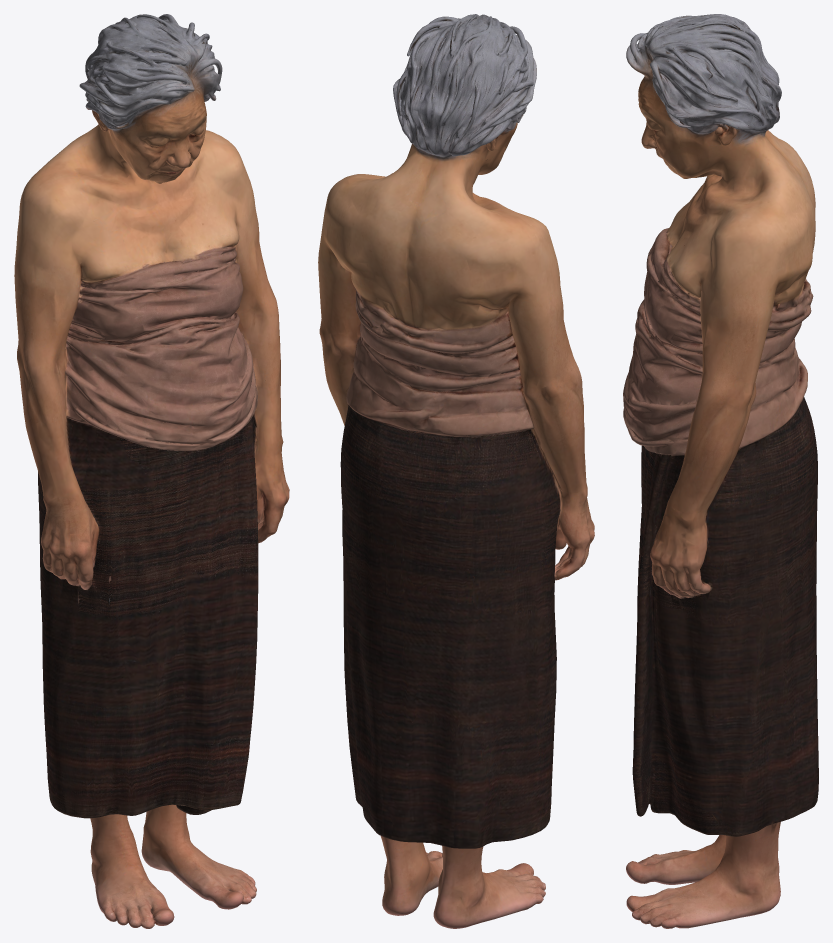
Rendered from e4ghost.glb.
The picture shows the model from 3 angles, left to right: view 1: azimuth 30°, elevation 25°; view 2: azimuth 150°, elevation 25°; view 3: azimuth 270°, elevation 25°; orthographic projection.
Parts seen in each view (by area): view 1: figure; view 2: figure; view 3: figure.
Boxes of the visible parts, x1,y1,x2,y2 form: figure: (14, 14, 289, 928); figure: (318, 14, 594, 928); figure: (623, 14, 818, 928).
Bounding box in the file's own units: 0.449 × 1.5 × 0.3049.
1 material, 1 textured.
